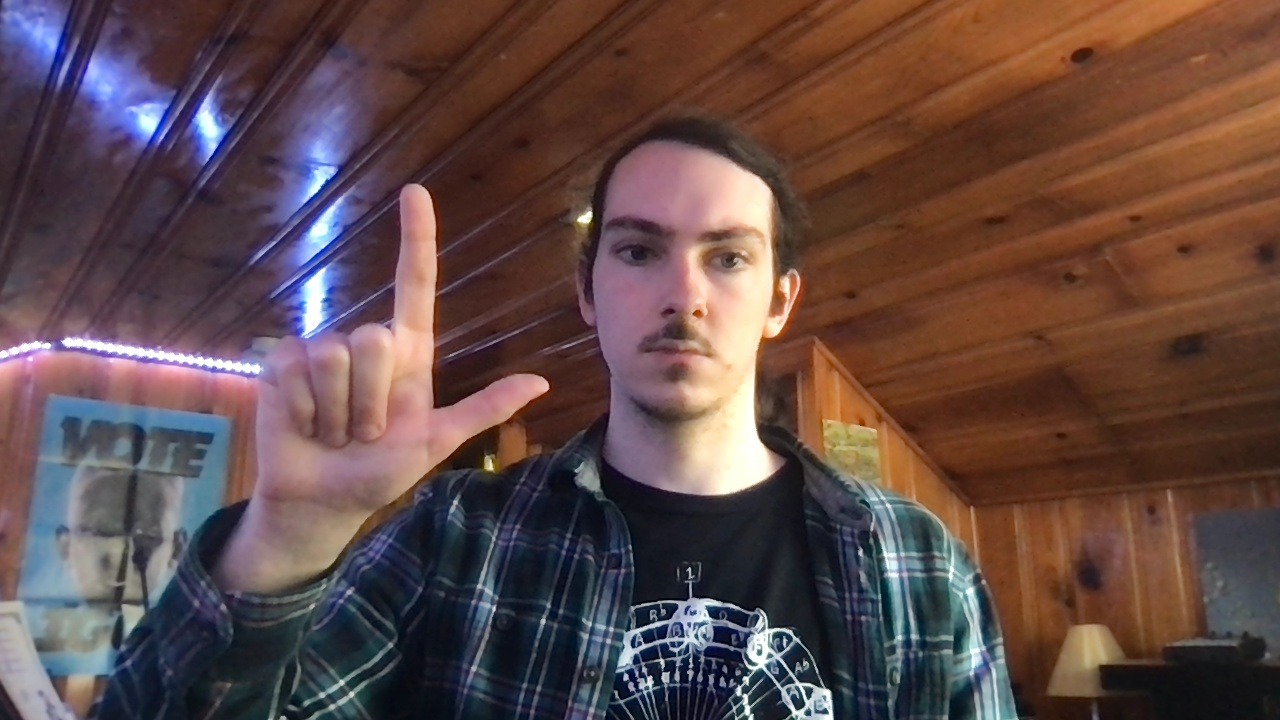l: (254, 183, 551, 509)
